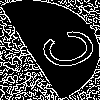C: (25, 25, 100, 78)
